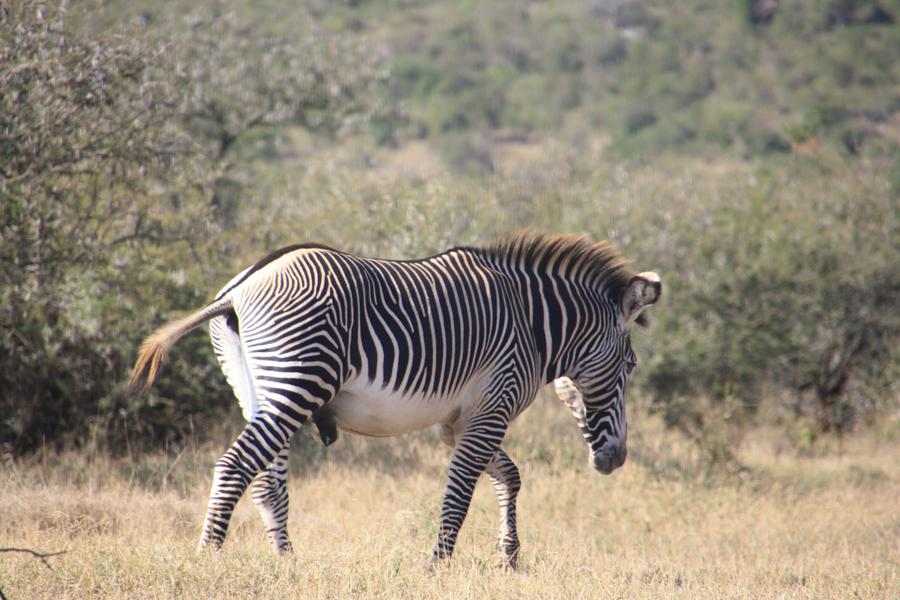zebra_grevys: (230, 244, 525, 419)
